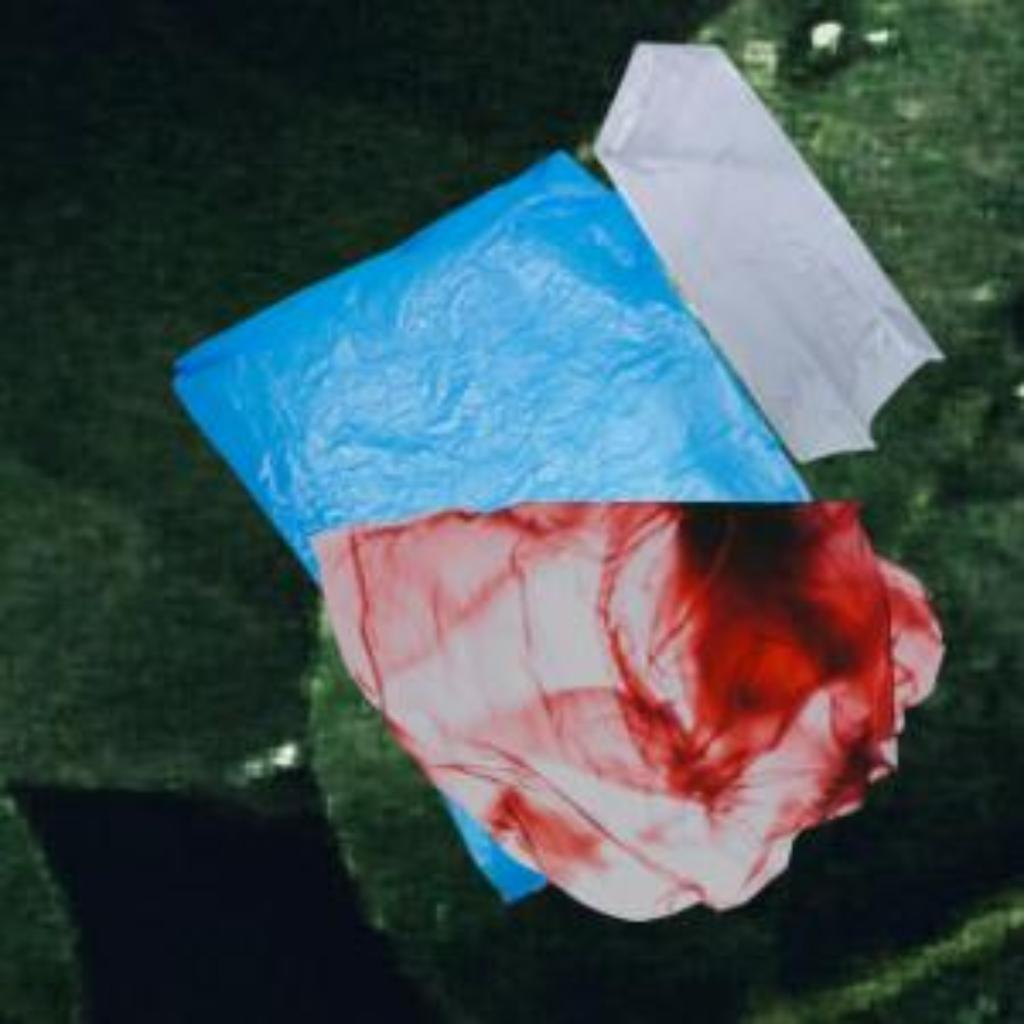garbage: (294, 485, 952, 901), (140, 118, 809, 507), (572, 14, 944, 457)
